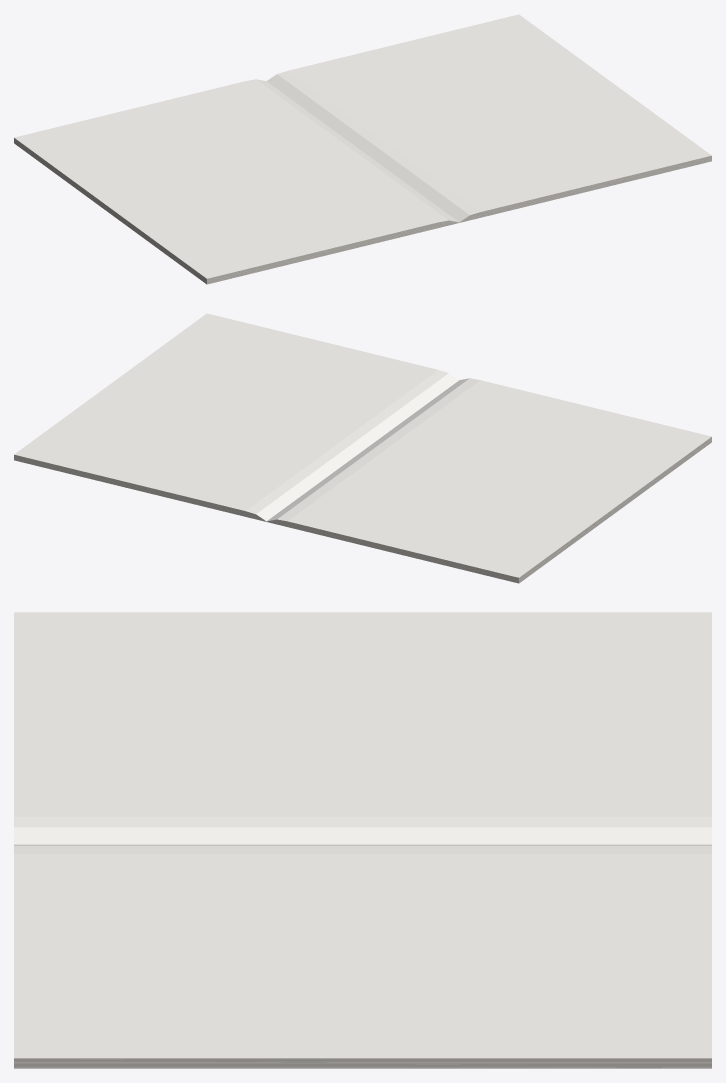
The model's file is magazine_open.glb.
The picture shows the model from 3 angles, top to bottom: view 1: azimuth 30°, elevation 25°; view 2: azimuth 150°, elevation 25°; view 3: azimuth 270°, elevation 25°; orthographic projection. The views are drawn at different scales.
Parts seen in each view (by area): view 1: magazine_open_right, magazine_open_left; view 2: magazine_open_right, magazine_open_left; view 3: magazine_open_left, magazine_open_right.
Part boxes in pixels (x1,y1,x2,y2): magazine_open_right: (267, 14, 711, 222); magazine_open_left: (14, 79, 459, 284); magazine_open_right: (14, 313, 458, 521); magazine_open_left: (266, 378, 711, 583); magazine_open_left: (14, 612, 711, 844); magazine_open_right: (14, 844, 711, 1068).
Bounding box in the file's own units: 0.68 × 0.0074 × 0.45.
Materials: 5 (2 with a texture image).
